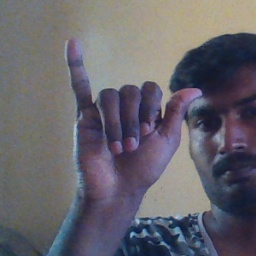J: (60, 41, 203, 193)
